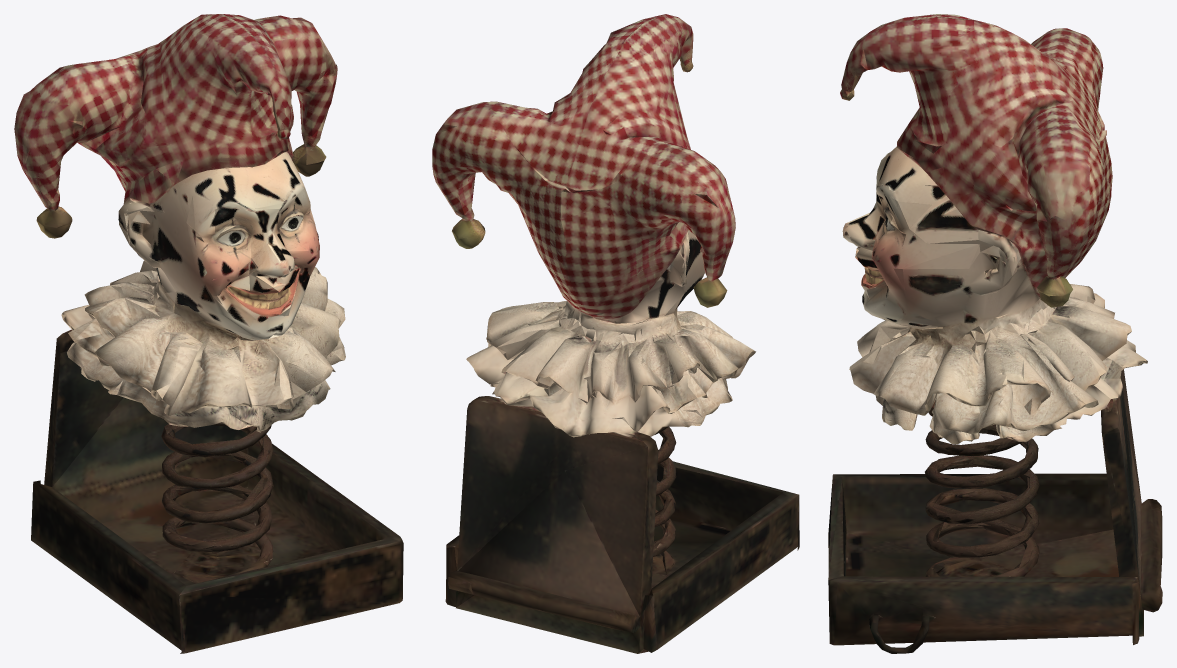
The model's file is Pogo.fbx.
The picture shows the model from 3 angles, left to right: view 1: azimuth 30°, elevation 25°; view 2: azimuth 150°, elevation 25°; view 3: azimuth 270°, elevation 25°; orthographic projection. The views are drawn at different scales.
Parts seen in each view (by area): view 1: Mesh_0; view 2: Mesh_0; view 3: Mesh_0.
Boxes of the visible parts, x1,y1,x2,y2 form: Mesh_0: [14, 14, 403, 653]; Mesh_0: [432, 14, 799, 653]; Mesh_0: [828, 14, 1162, 653].
Bounding box in the file's own units: 109 × 190 × 99.92.
1 material, 1 textured.
